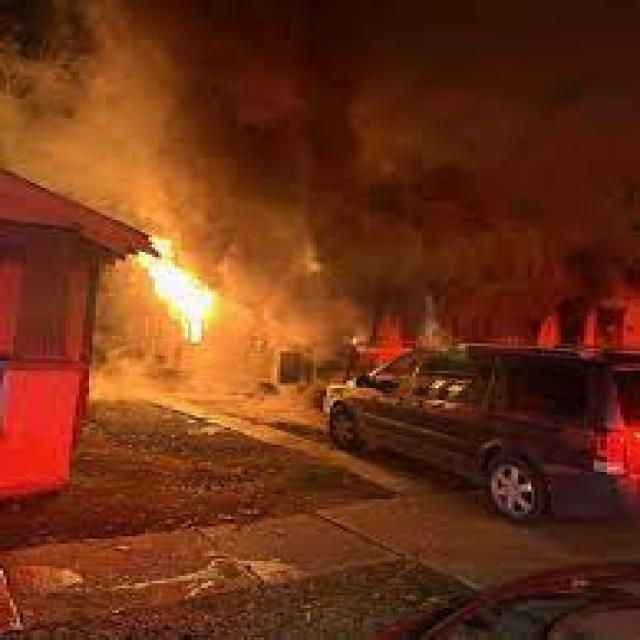Fire: (136, 247, 238, 339)
Smoke: (99, 4, 640, 240)
